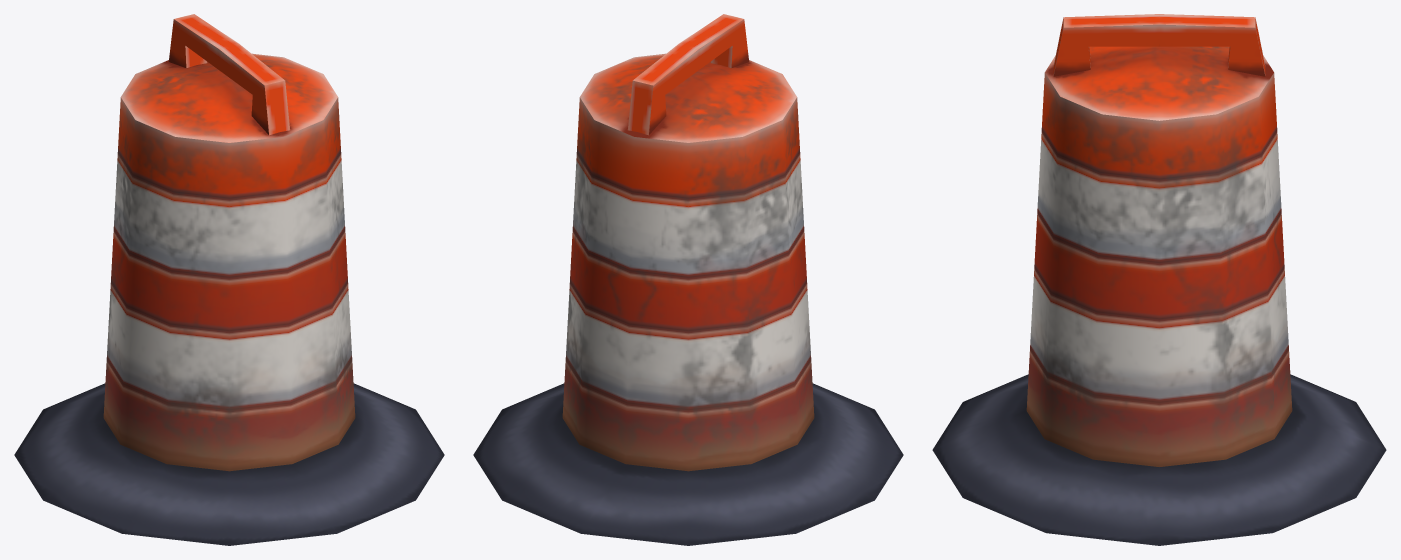
Rendered from trafficCone02.fbx.
3 renders of one model, left to right at view 1: azimuth 30°, elevation 25°; view 2: azimuth 150°, elevation 25°; view 3: azimuth 270°, elevation 25°, orthographic. The views are drawn at different scales.
Visible parts, largest first — view 1: trafficCone02; view 2: trafficCone02; view 3: trafficCone02.
Part boxes in pixels (x1,y1,x2,y2): trafficCone02: (14,14,444,545); trafficCone02: (473,14,903,545); trafficCone02: (932,14,1386,545).
Size of the model in its own units: 101 by 106 by 101.
